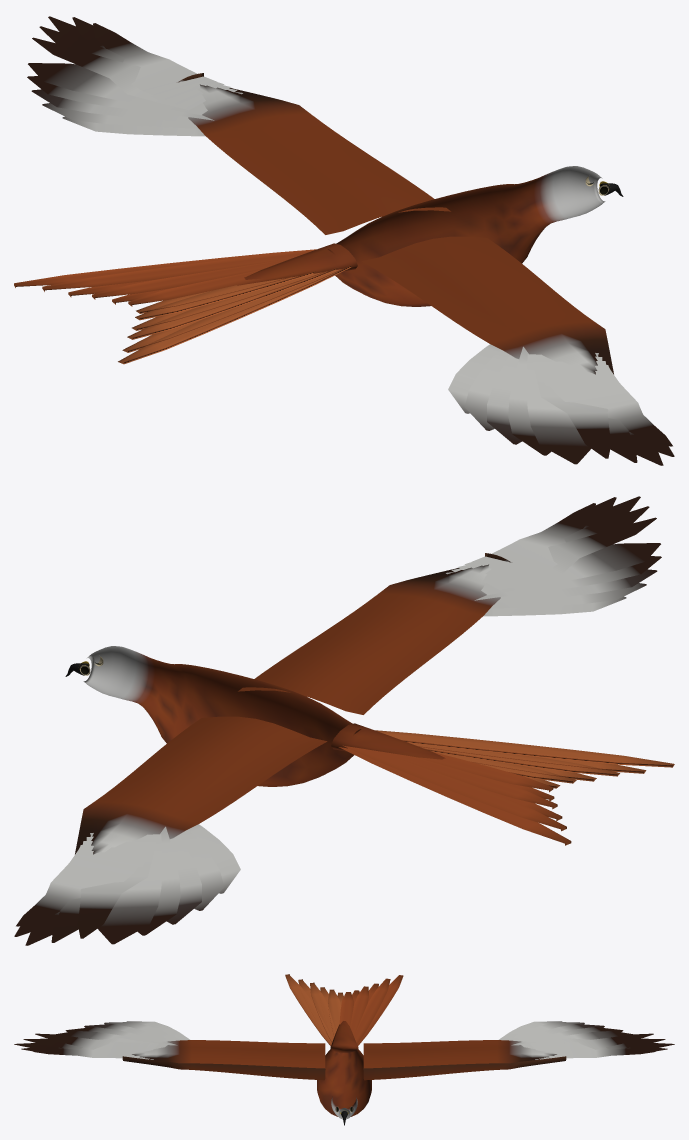
The model's file is SM_Bird_red_kite_glide.glb.
The picture shows the model from 3 angles, top to bottom: view 1: azimuth 30°, elevation 25°; view 2: azimuth 150°, elevation 25°; view 3: azimuth 270°, elevation 25°; orthographic projection. The views are drawn at different scales.
Parts seen in each view (by area): view 1: SM_Bird_red_kite_glide; view 2: SM_Bird_red_kite_glide; view 3: SM_Bird_red_kite_glide.
Part boxes in pixels (<box>): SM_Bird_red_kite_glide: <box>14,16,674,465</box>; SM_Bird_red_kite_glide: <box>14,496,674,945</box>; SM_Bird_red_kite_glide: <box>14,974,674,1125</box>.
Bounding box in the file's own units: 0.817 × 0.1396 × 1.56.
